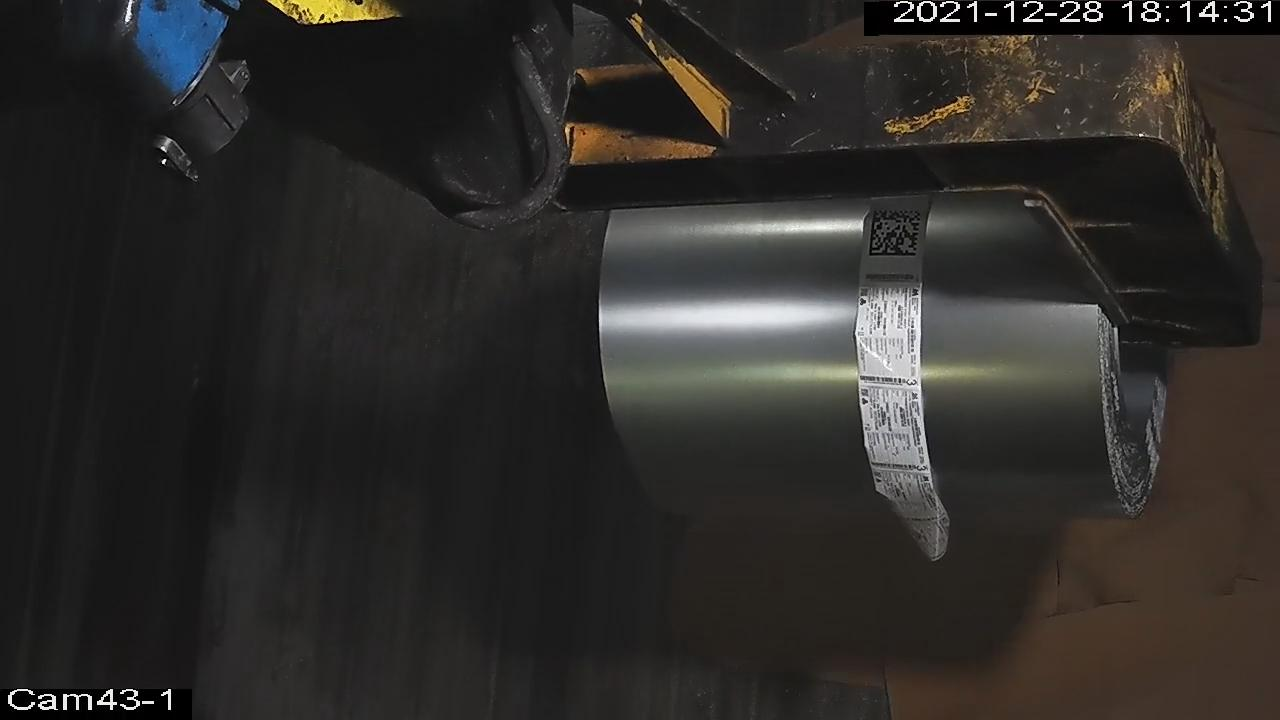data matrix: (868, 208, 925, 260)
